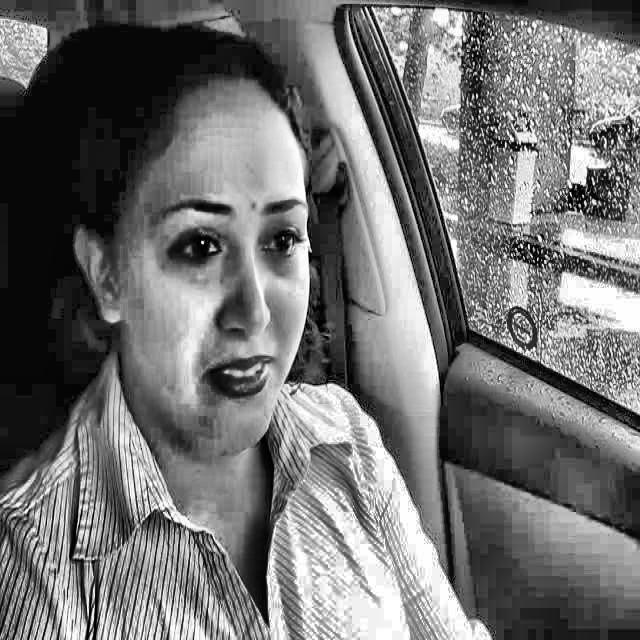closed_mouth: (186, 341, 304, 424)
open_eyes: (160, 217, 231, 279), (256, 221, 312, 277)
